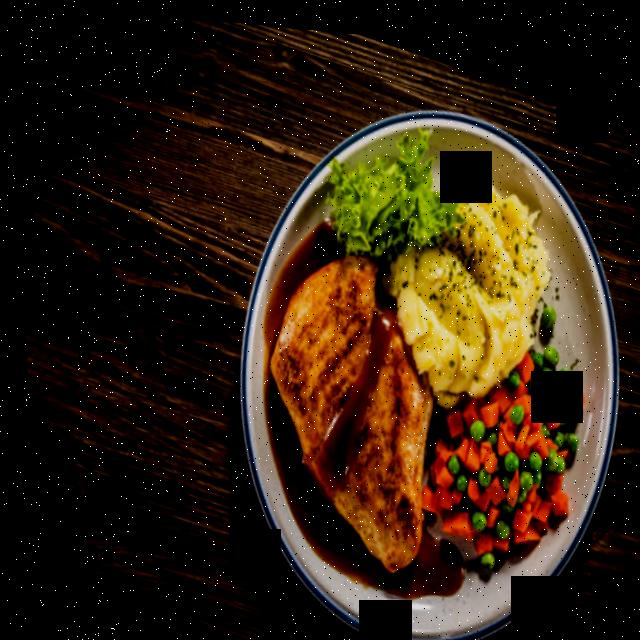Frango: (214, 218, 482, 583)
